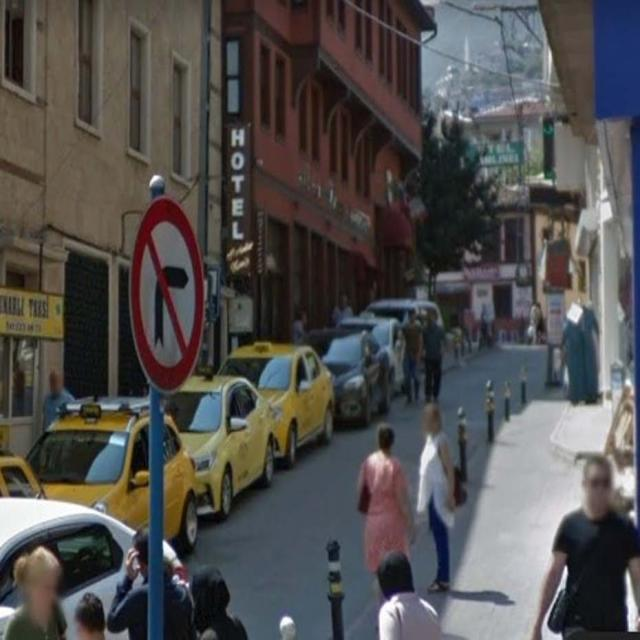sagadonulmez: (130, 195, 205, 393)
